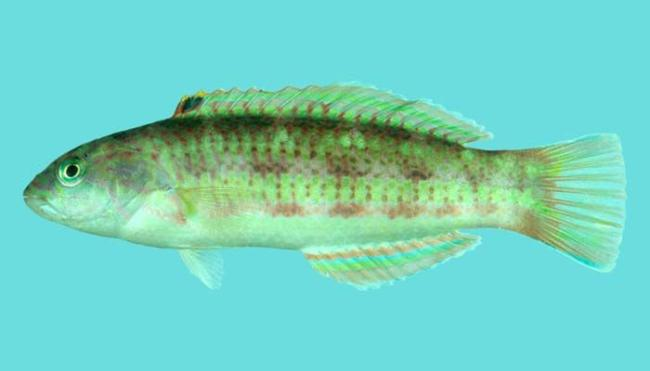fish: (21, 80, 628, 292)
